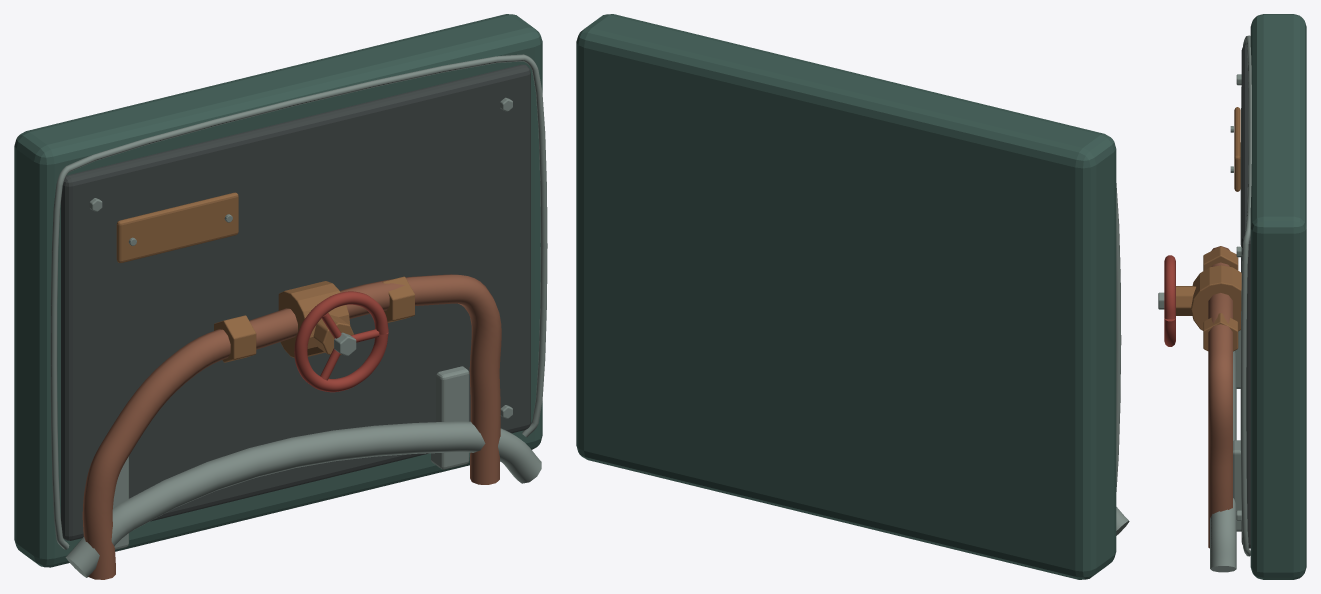
The model's file is roof-irrigation-header.glb.
3 renders of one model, left to right at view 1: azimuth 30°, elevation 25°; view 2: azimuth 150°, elevation 25°; view 3: azimuth 270°, elevation 25°, orthographic. The views are drawn at different scales.
Parts seen in each view (by area): view 1: Roof irrigation header / Blackened cast supports, Roof irrigation header / Dark green fired enamel, Roof irrigation header / Weathered galvanized skin, Roof irrigation header / Aged copper pipe, Roof irrigation header / Oxidised bronze, Roof irrigation header / Faded valve enamel; view 2: Roof irrigation header / Dark green fired enamel, Roof irrigation header / Weathered galvanized skin; view 3: Roof irrigation header / Dark green fired enamel, Roof irrigation header / Weathered galvanized skin, Roof irrigation header / Aged copper pipe, Roof irrigation header / Oxidised bronze, Roof irrigation header / Blackened cast supports, Roof irrigation header / Faded valve enamel.
Part boxes in pixels (bbox=[...]): Roof irrigation header / Blackened cast supports: bbox=[61, 64, 530, 540]; Roof irrigation header / Dark green fired enamel: bbox=[14, 14, 542, 567]; Roof irrigation header / Weathered galvanized skin: bbox=[50, 54, 547, 577]; Roof irrigation header / Aged copper pipe: bbox=[82, 274, 501, 579]; Roof irrigation header / Oxidised bronze: bbox=[116, 192, 414, 362]; Roof irrigation header / Faded valve enamel: bbox=[294, 291, 388, 392]; Roof irrigation header / Dark green fired enamel: bbox=[576, 14, 1116, 579]; Roof irrigation header / Weathered galvanized skin: bbox=[1116, 183, 1129, 535]; Roof irrigation header / Dark green fired enamel: bbox=[1250, 14, 1306, 579]; Roof irrigation header / Weathered galvanized skin: bbox=[1158, 35, 1251, 572]; Roof irrigation header / Aged copper pipe: bbox=[1208, 246, 1232, 548]; Roof irrigation header / Oxidised bronze: bbox=[1176, 107, 1241, 351]; Roof irrigation header / Blackened cast supports: bbox=[1241, 44, 1250, 548]; Roof irrigation header / Faded valve enamel: bbox=[1164, 255, 1175, 346].
Size of the model in its own units: 1.32 by 1.07 by 0.3895.
